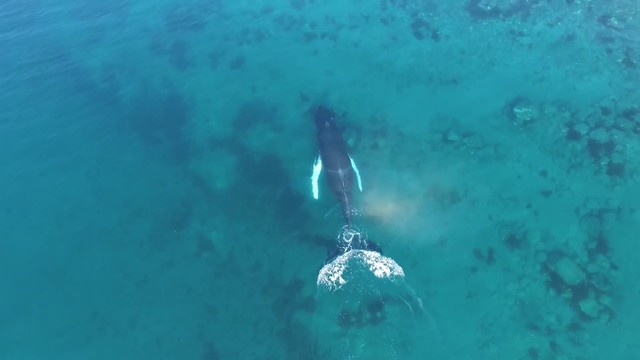whale: (301, 101, 396, 285)
